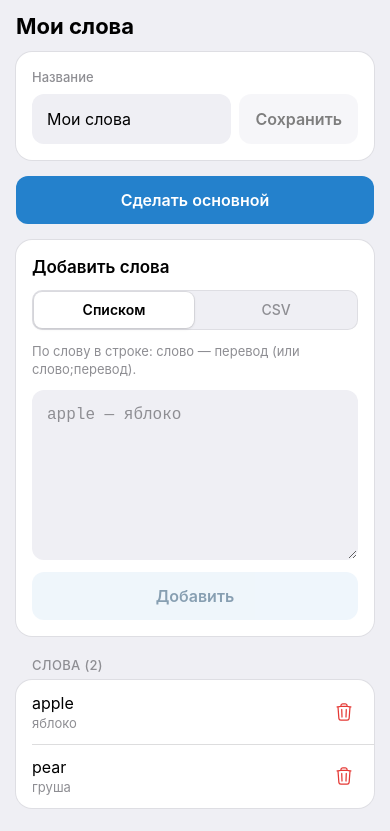
Test: DeckEditView › adding words › leaves out the list of dropped lines when nothing was dropped
In the text box with test id "text-input": coordinates (195, 475) [32,390,358,560], type "plum — слива"
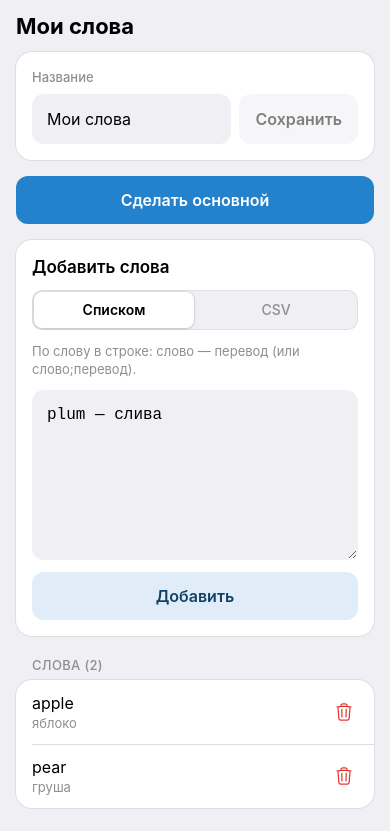
Click the button with test id "add-btn": coordinates (195, 596) [32,572,358,620]
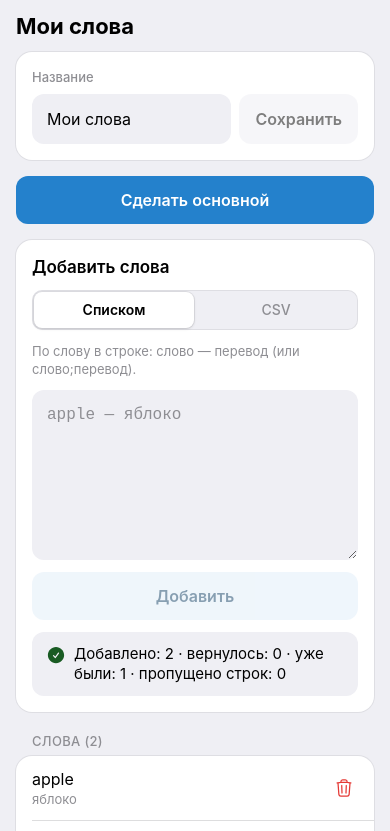
Expected: the element with test id "report-summary" reads "Добавлено: 2 · вернулось: 0 · уже были: 1 · пропущено строк: 0", [74,644,324,683]
